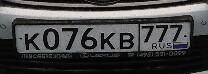license-plateSW: (12, 20, 194, 53)
